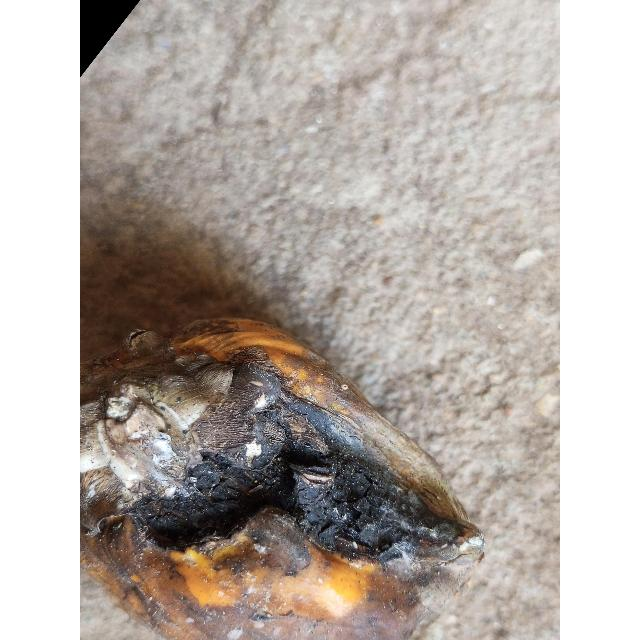damaged: (80, 319, 484, 640)
